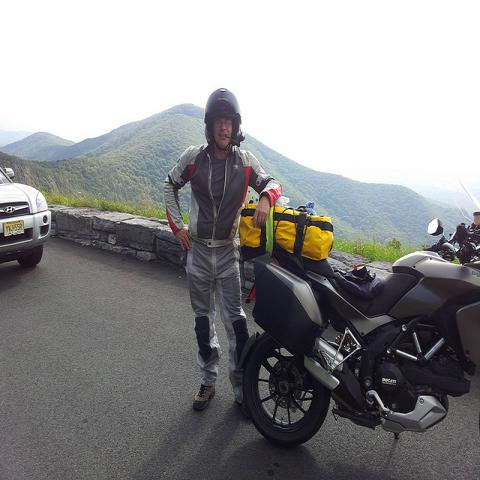car: (0, 164, 53, 264)
motorcycle: (240, 223, 479, 450)
